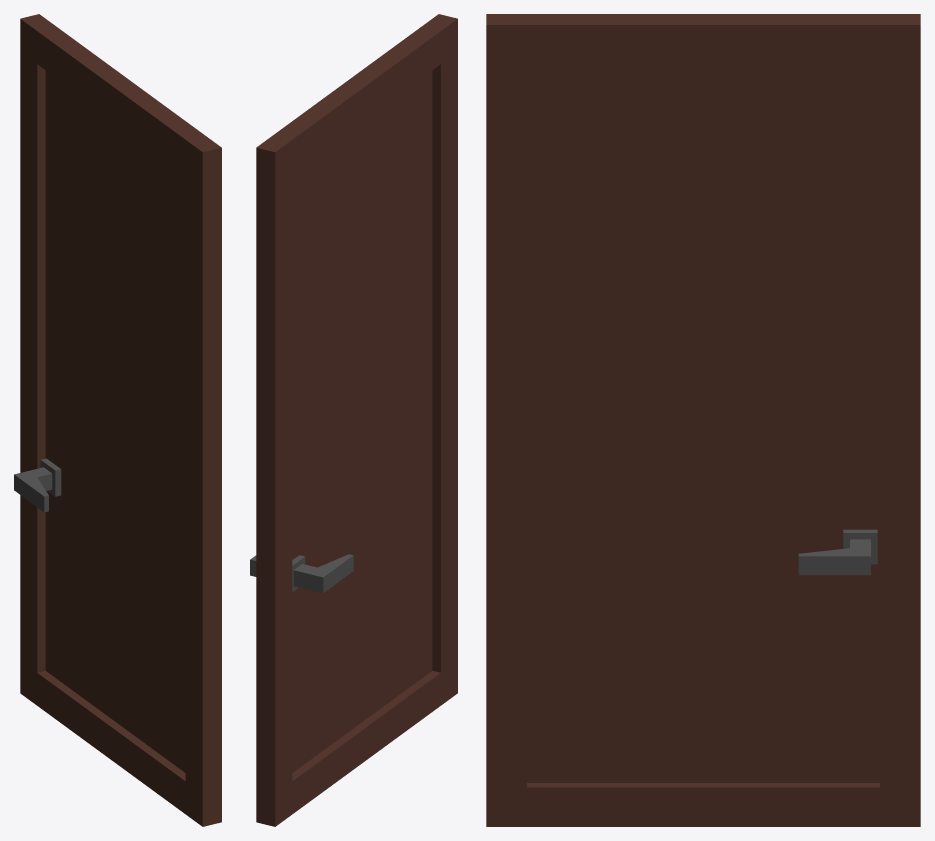
File: Door A-col.glb
3 renders of one model, left to right at view 1: azimuth 30°, elevation 25°; view 2: azimuth 150°, elevation 25°; view 3: azimuth 270°, elevation 25°, orthographic. The views are drawn at different scales.
Parts seen in each view (by area): view 1: Door A-col; view 2: Door A-col; view 3: Door A-col.
Boxes of the visible parts, box(x1,y1,x2,y2) form: Door A-col: box(14, 14, 221, 826); Door A-col: box(250, 14, 457, 826); Door A-col: box(486, 14, 920, 826).
Size of the model in its own units: 0.2042 by 1.8 by 0.8831.
